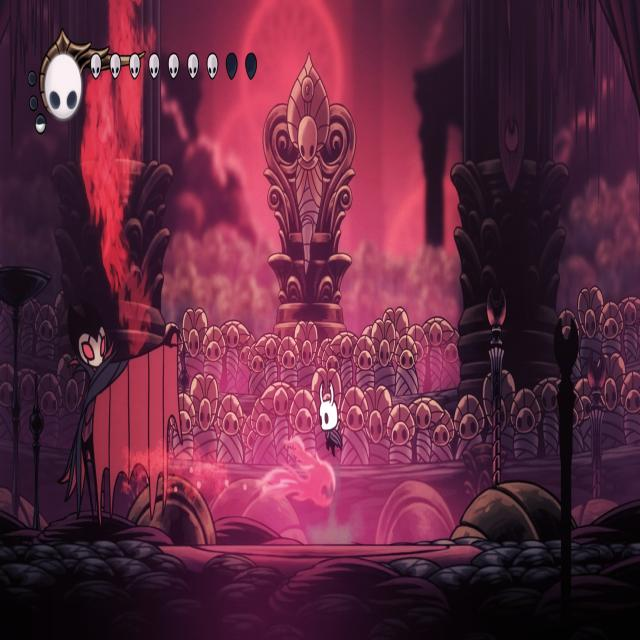Fire Bat: (267, 430, 336, 507)
Open Cloak: (58, 296, 191, 544)
Player: (318, 370, 348, 462)
